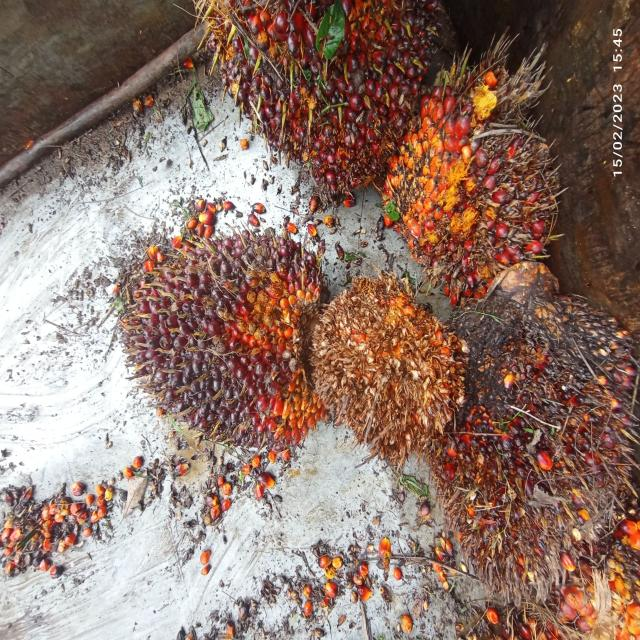fraksi 1: (84, 199, 338, 499), (455, 310, 617, 596)
fraksi 3: (180, 0, 493, 214), (384, 47, 584, 323)
fraksi 4: (294, 260, 475, 498)
